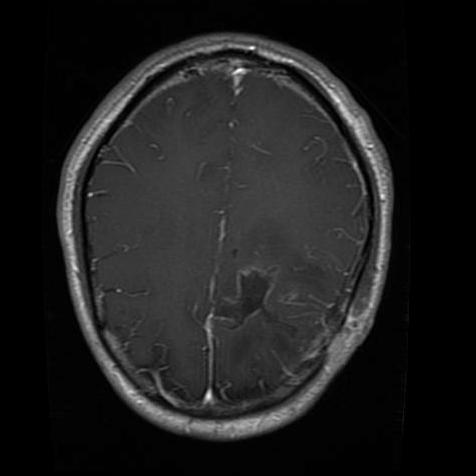Tumour-Glioma: (214, 252, 281, 335)
